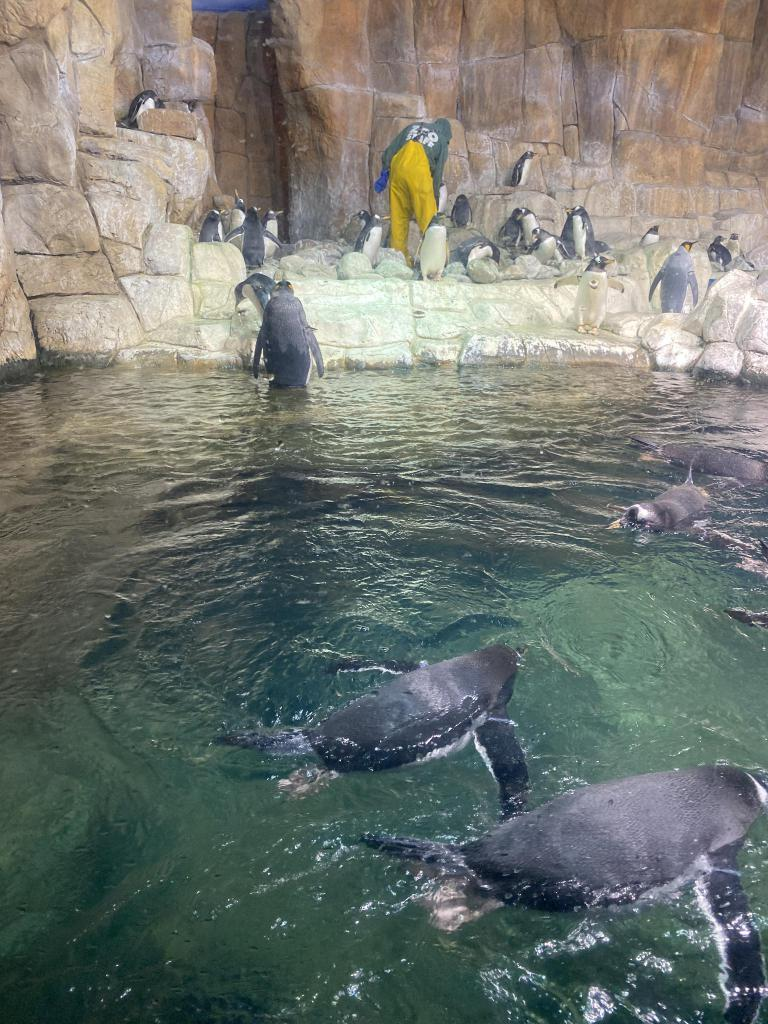penguin: (422, 754, 760, 954), (230, 637, 534, 791), (600, 468, 720, 550), (255, 278, 323, 394), (560, 252, 620, 334), (654, 231, 698, 327), (565, 204, 605, 260), (240, 208, 272, 272), (257, 204, 289, 266), (350, 210, 388, 262), (199, 204, 229, 258), (124, 86, 160, 130), (228, 185, 250, 249), (512, 142, 538, 196), (706, 231, 730, 279), (724, 224, 750, 268), (520, 209, 544, 251), (450, 192, 474, 232), (638, 222, 664, 254)
